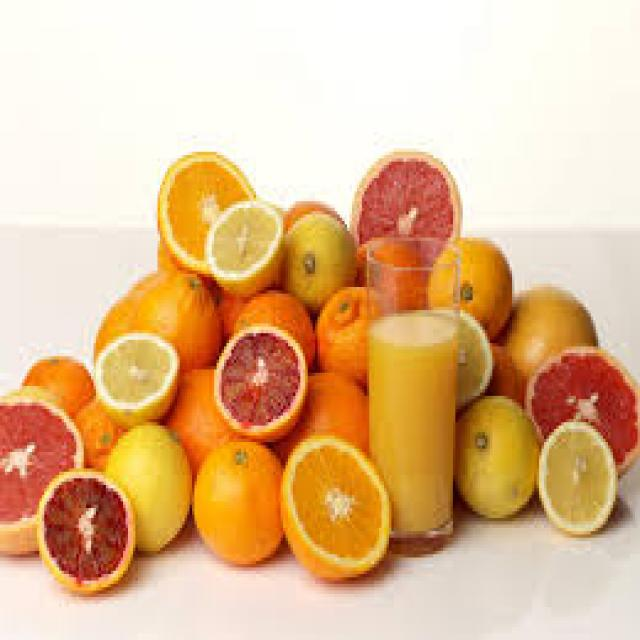organic waste: (367, 307, 453, 524), (278, 432, 389, 577), (524, 340, 638, 472), (0, 389, 81, 551), (155, 149, 256, 277), (34, 462, 133, 590), (349, 148, 458, 264), (187, 432, 281, 561), (99, 419, 190, 551), (453, 392, 537, 514), (212, 324, 302, 436), (128, 267, 219, 366), (536, 419, 616, 528), (278, 204, 355, 314), (273, 366, 362, 459), (91, 330, 180, 422), (421, 234, 509, 327), (202, 194, 283, 294), (502, 287, 596, 373), (160, 366, 234, 472), (313, 280, 377, 390), (227, 284, 315, 363), (433, 307, 490, 402), (352, 238, 423, 304), (20, 353, 89, 409), (91, 284, 143, 356), (74, 396, 123, 468), (74, 396, 123, 465), (482, 336, 532, 396), (281, 195, 342, 234), (212, 287, 251, 343)
